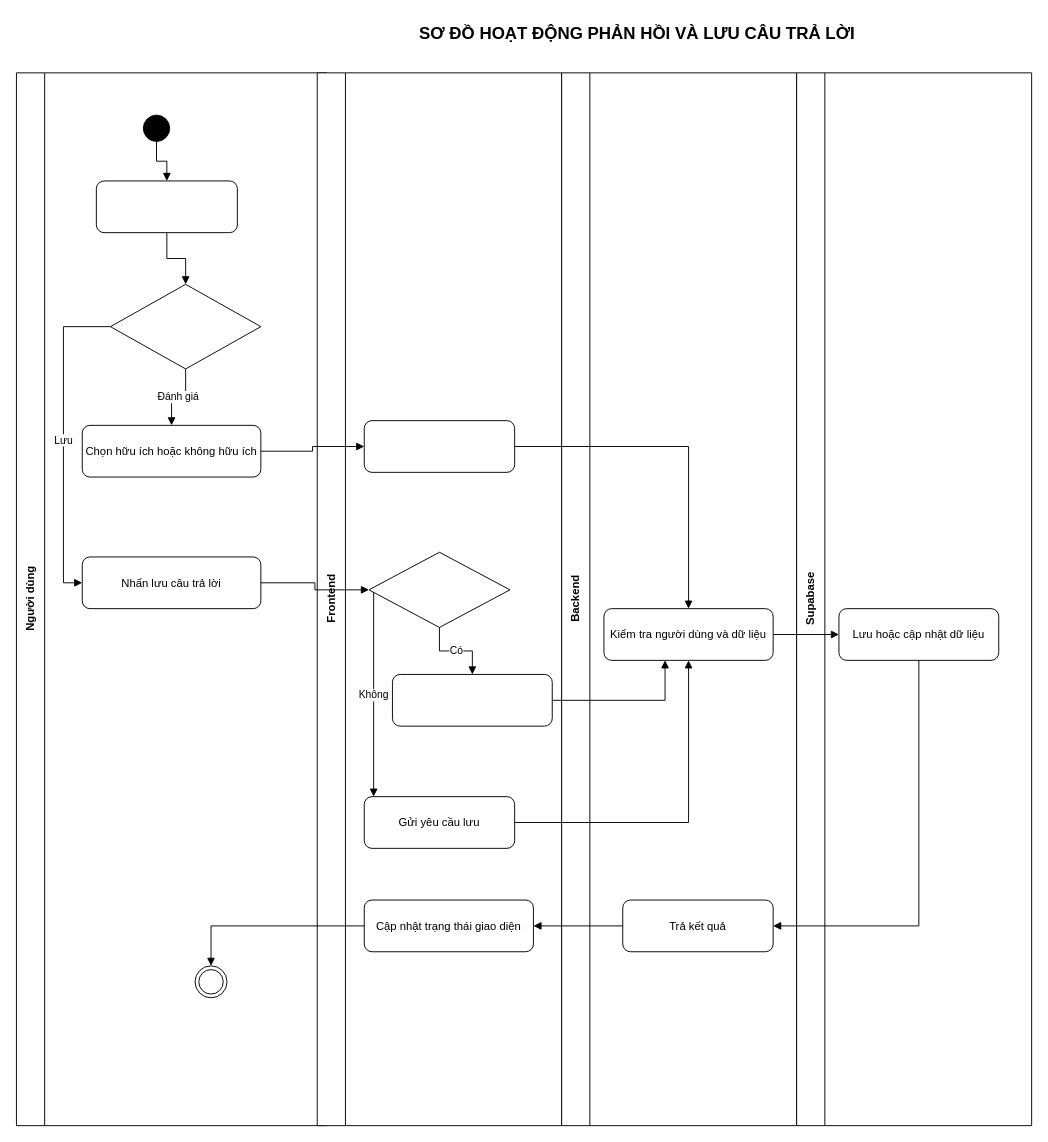
The diagram is 1048 pixels wide and 1142 high, and some of its shapes have lost their labels. Here are the shapes that lost their labels. From the top down, the box of each, then its label:
(95, 180, 237, 233): Xem câu trả lời
(110, 283, 261, 369): Chọn thao tác?
(363, 420, 515, 472): Gửi feedback
(368, 551, 510, 627): Đã lưu?
(392, 674, 552, 726): Gửi yêu cầu bỏ lưu
